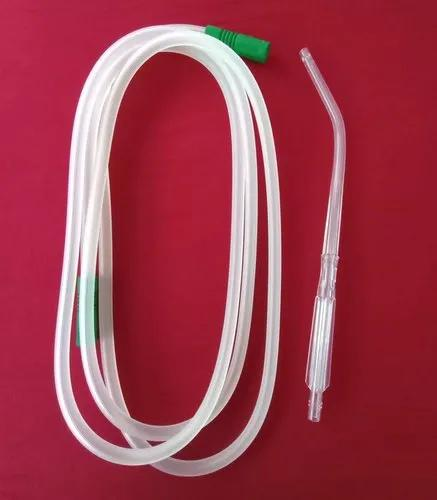Suction Tube Nozzle: (51, 22, 346, 478)
